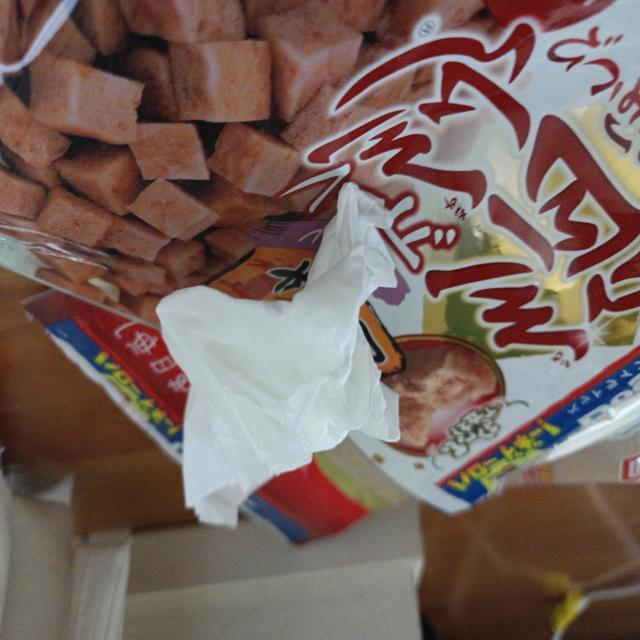Paper: (143, 198, 389, 530)
